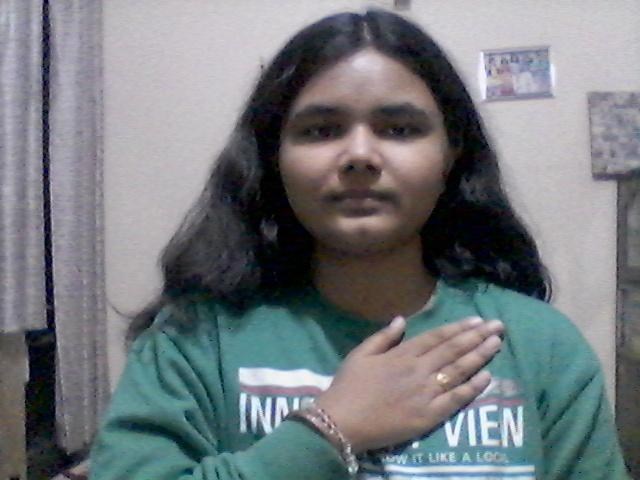please: (295, 302, 522, 462)
